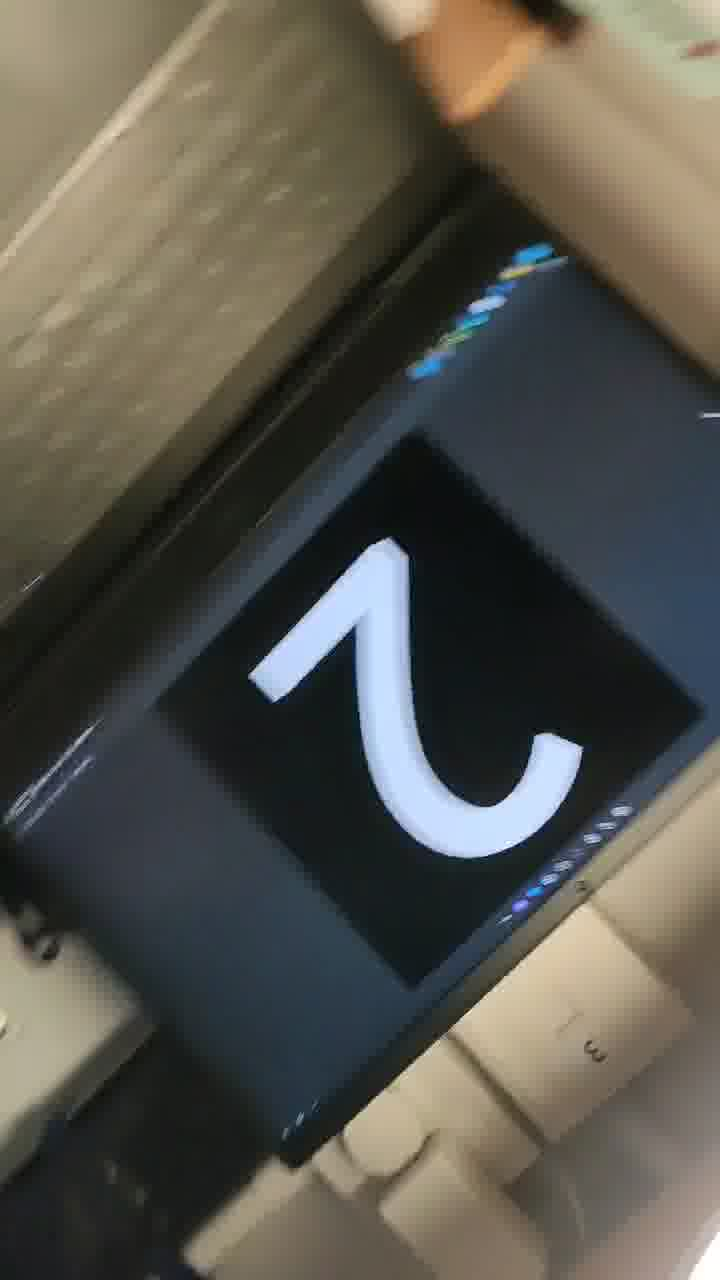two: (225, 505, 594, 915)
